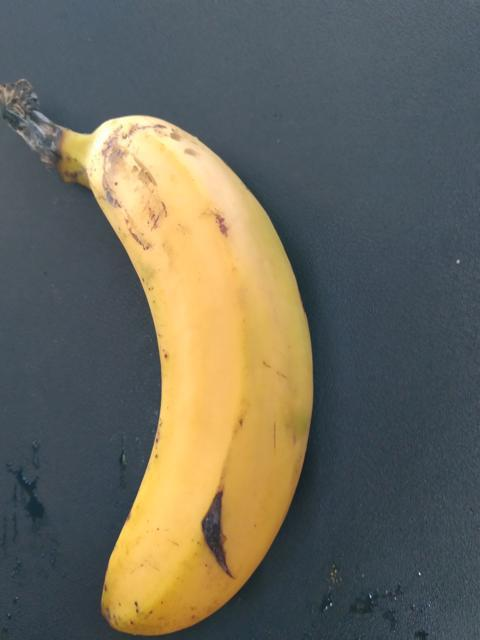ripe: (64, 96, 367, 639)
